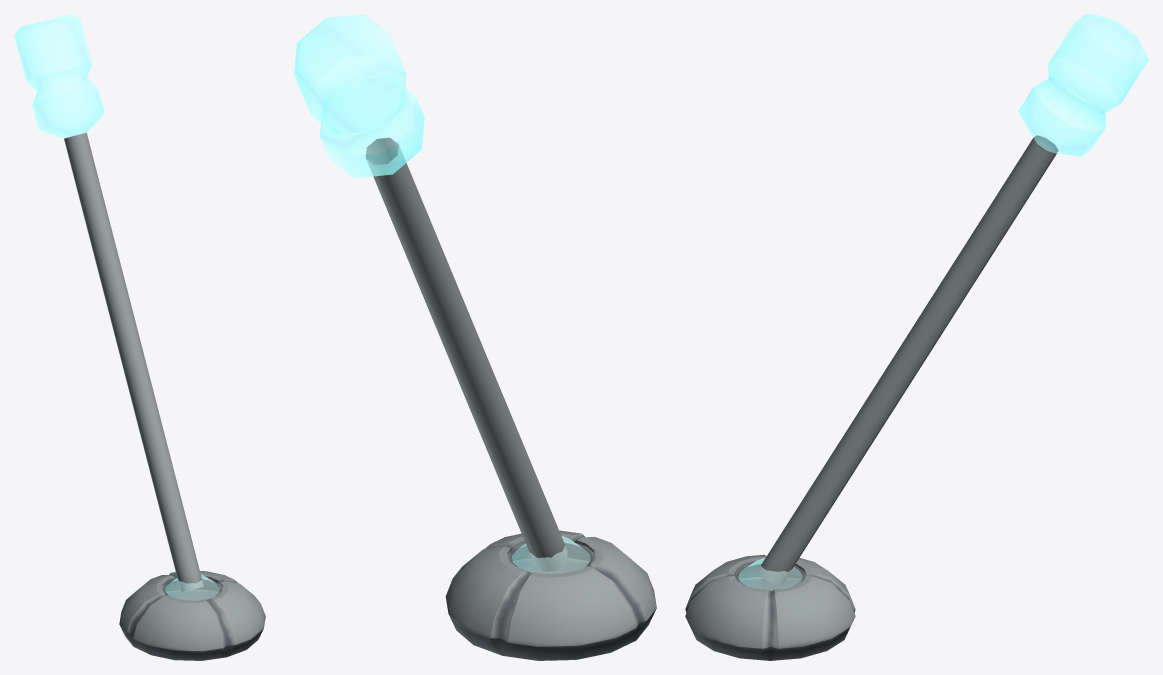
File: SM_Multiswitch_Handle.fbx
3 views of the same model, side by side, from view 1: azimuth 30°, elevation 25°; view 2: azimuth 150°, elevation 25°; view 3: azimuth 270°, elevation 25° (orthographic). The views are drawn at different scales.
Visible parts, largest first — view 1: MSHandle; view 2: MSHandle; view 3: MSHandle.
Part boxes in pixels (x1,y1,x2,y2): MSHandle: [14, 14, 265, 660]; MSHandle: [294, 14, 656, 660]; MSHandle: [685, 14, 1148, 660].
Size of what is drawn, in the model's own units: 0.1164 by 0.458 by 0.3166.
